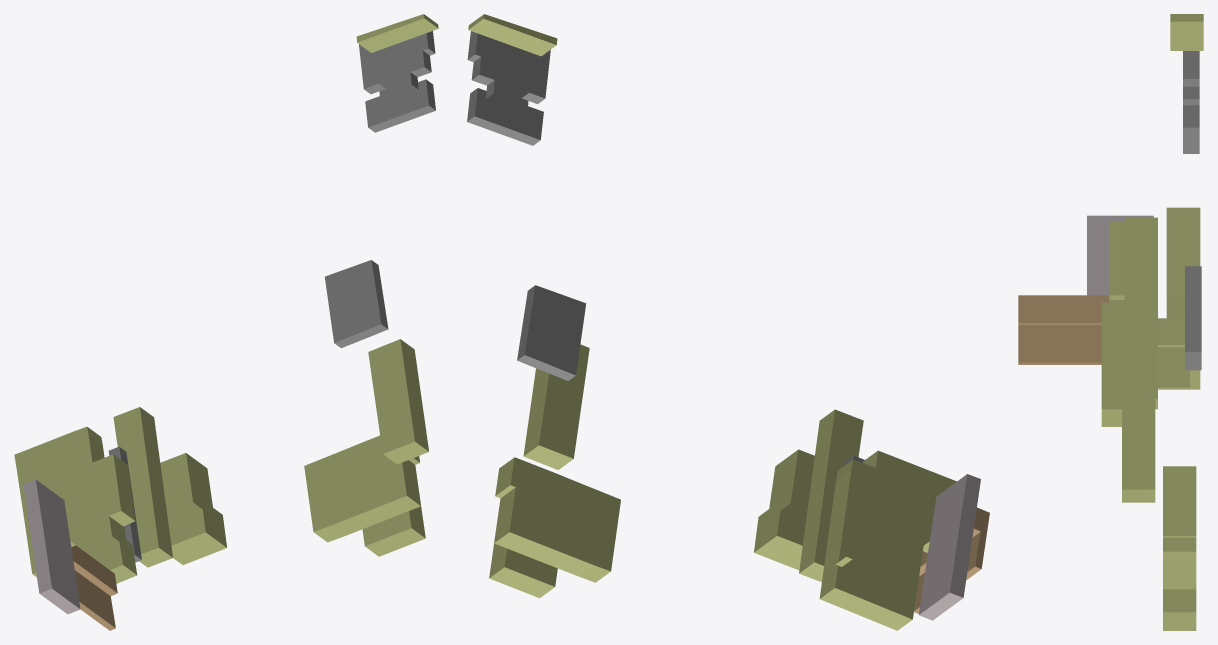
The picture shows the model from 3 angles, left to right: view 1: azimuth 30°, elevation 25°; view 2: azimuth 150°, elevation 25°; view 3: azimuth 270°, elevation 25°; orthographic projection. The views are drawn at different scales.
Visible parts, largest first — view 1: 0_1_3_2_1_2_2; view 2: 0_1_3_2_1_2_2; view 3: 0_1_3_2_1_2_2.
Part boxes in pixels (box(x1,y1,x2,y2)): 0_1_3_2_1_2_2: box(14, 14, 438, 630); 0_1_3_2_1_2_2: box(467, 14, 989, 630); 0_1_3_2_1_2_2: box(1018, 14, 1203, 630).
Size of the model in its own units: 103 by 120 by 33.36.
